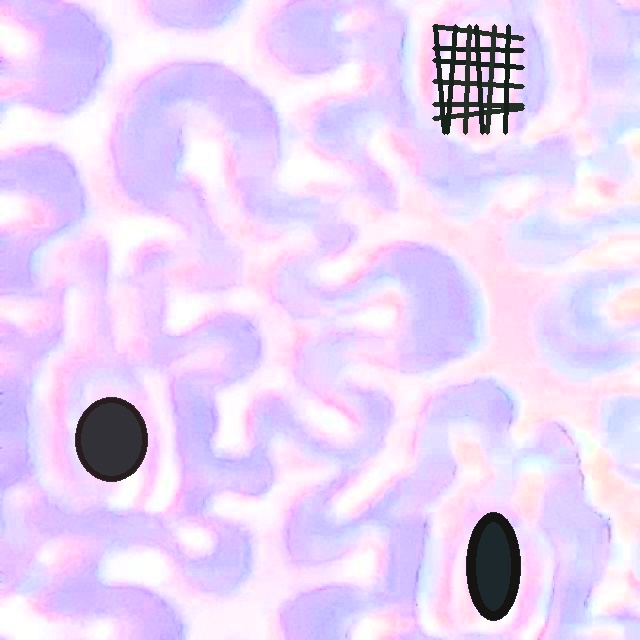close: (432, 25, 523, 134), (75, 396, 147, 481)
open: (466, 512, 520, 620)
